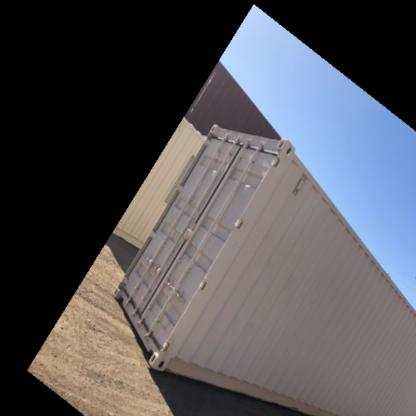Damage: (272, 381, 320, 405)
